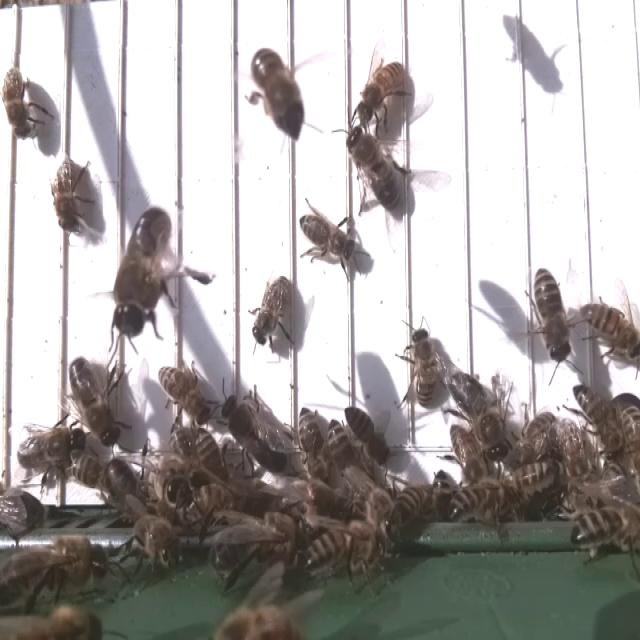Drone: (106, 205, 181, 344), (214, 386, 296, 479), (446, 363, 513, 466), (65, 351, 125, 449), (344, 123, 405, 219), (13, 422, 89, 473)
Worker: (246, 42, 306, 142), (531, 262, 574, 368), (155, 360, 214, 430), (355, 55, 407, 131), (582, 300, 640, 368), (297, 211, 360, 267), (250, 269, 294, 348), (408, 319, 442, 415), (1, 65, 38, 146), (343, 404, 389, 468), (49, 150, 83, 236), (298, 399, 328, 485)
